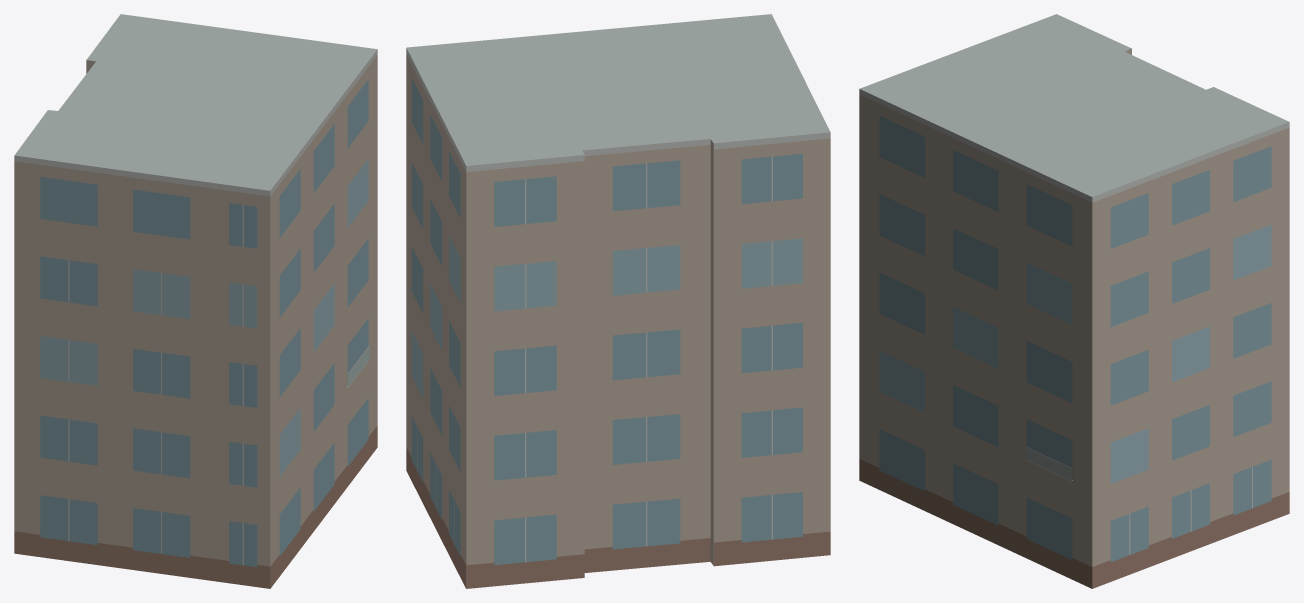
The model's file is survey-upis-32827643.glb.
3 views of the same model, side by side, from view 1: azimuth 30°, elevation 25°; view 2: azimuth 150°, elevation 25°; view 3: azimuth 270°, elevation 25° (orthographic). The views are drawn at different scales.
Visible parts, largest first — view 1: survey-upis-32827643.tmp; view 2: survey-upis-32827643.tmp; view 3: survey-upis-32827643.tmp.
Boxes of the visible parts, x1,y1,x2,y2 form: survey-upis-32827643.tmp: (14,14,377,588); survey-upis-32827643.tmp: (406,14,830,588); survey-upis-32827643.tmp: (859,14,1289,588).
Bounding box in the file's own units: 17.15 × 17.1 × 17.03.
